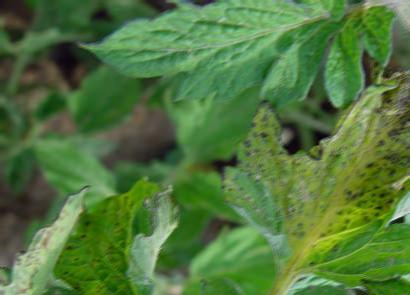Tomato leaf bacterial spot: (220, 60, 410, 295), (79, 0, 410, 125), (0, 142, 195, 295)
